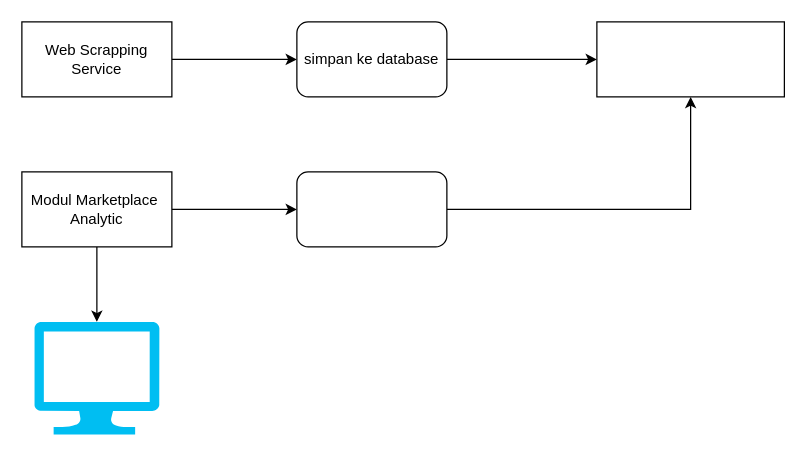
This 806x456 diagram has some shape labels left out. The shapes that lost their labels are listed below. From the top down, each one's box as (x1, y1, x2, y2) in pixels, then its label:
(596, 21, 784, 97): database table addon_mpanalytic_toped
(296, 171, 447, 247): ambil data scrap tokopedia
